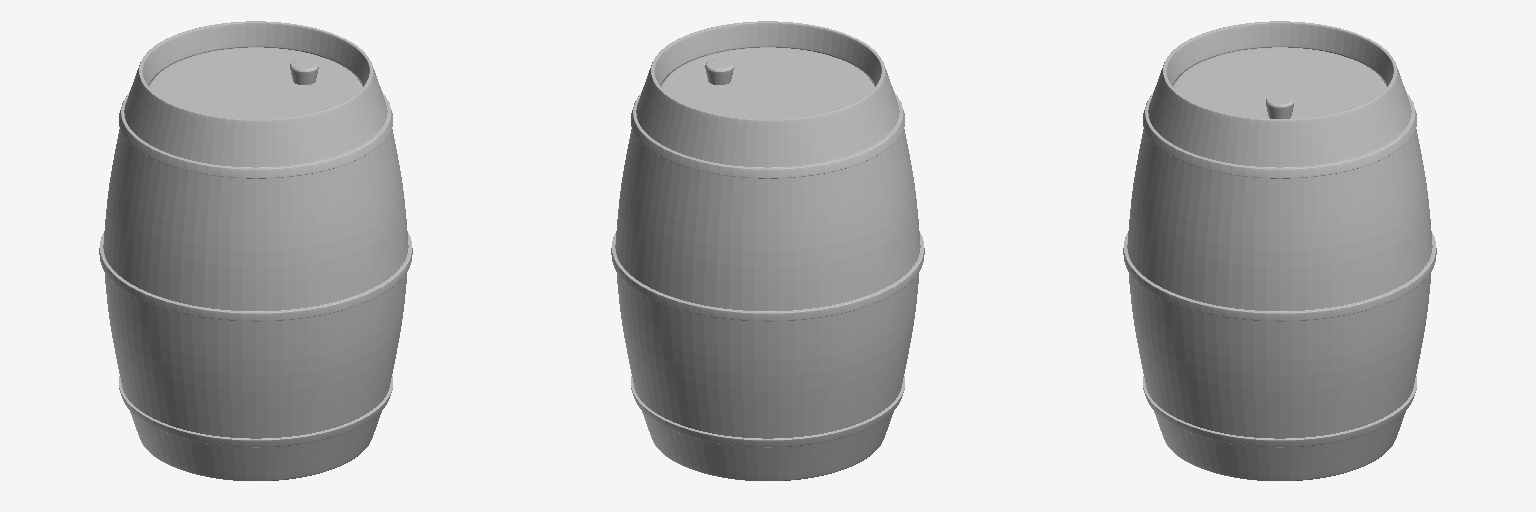
Rendered from barrel.obj.
3 renders of one model, left to right at view 1: azimuth 30°, elevation 25°; view 2: azimuth 150°, elevation 25°; view 3: azimuth 270°, elevation 25°, orthographic.
Visible parts, largest first — view 1: (null); view 2: (null); view 3: (null).
Part boxes in pixels (bbox=[...]): (null): bbox=[99, 21, 412, 480]; (null): bbox=[611, 21, 924, 480]; (null): bbox=[1123, 21, 1436, 480].
Size of the model in its own units: 30.93 by 40.37 by 30.92.